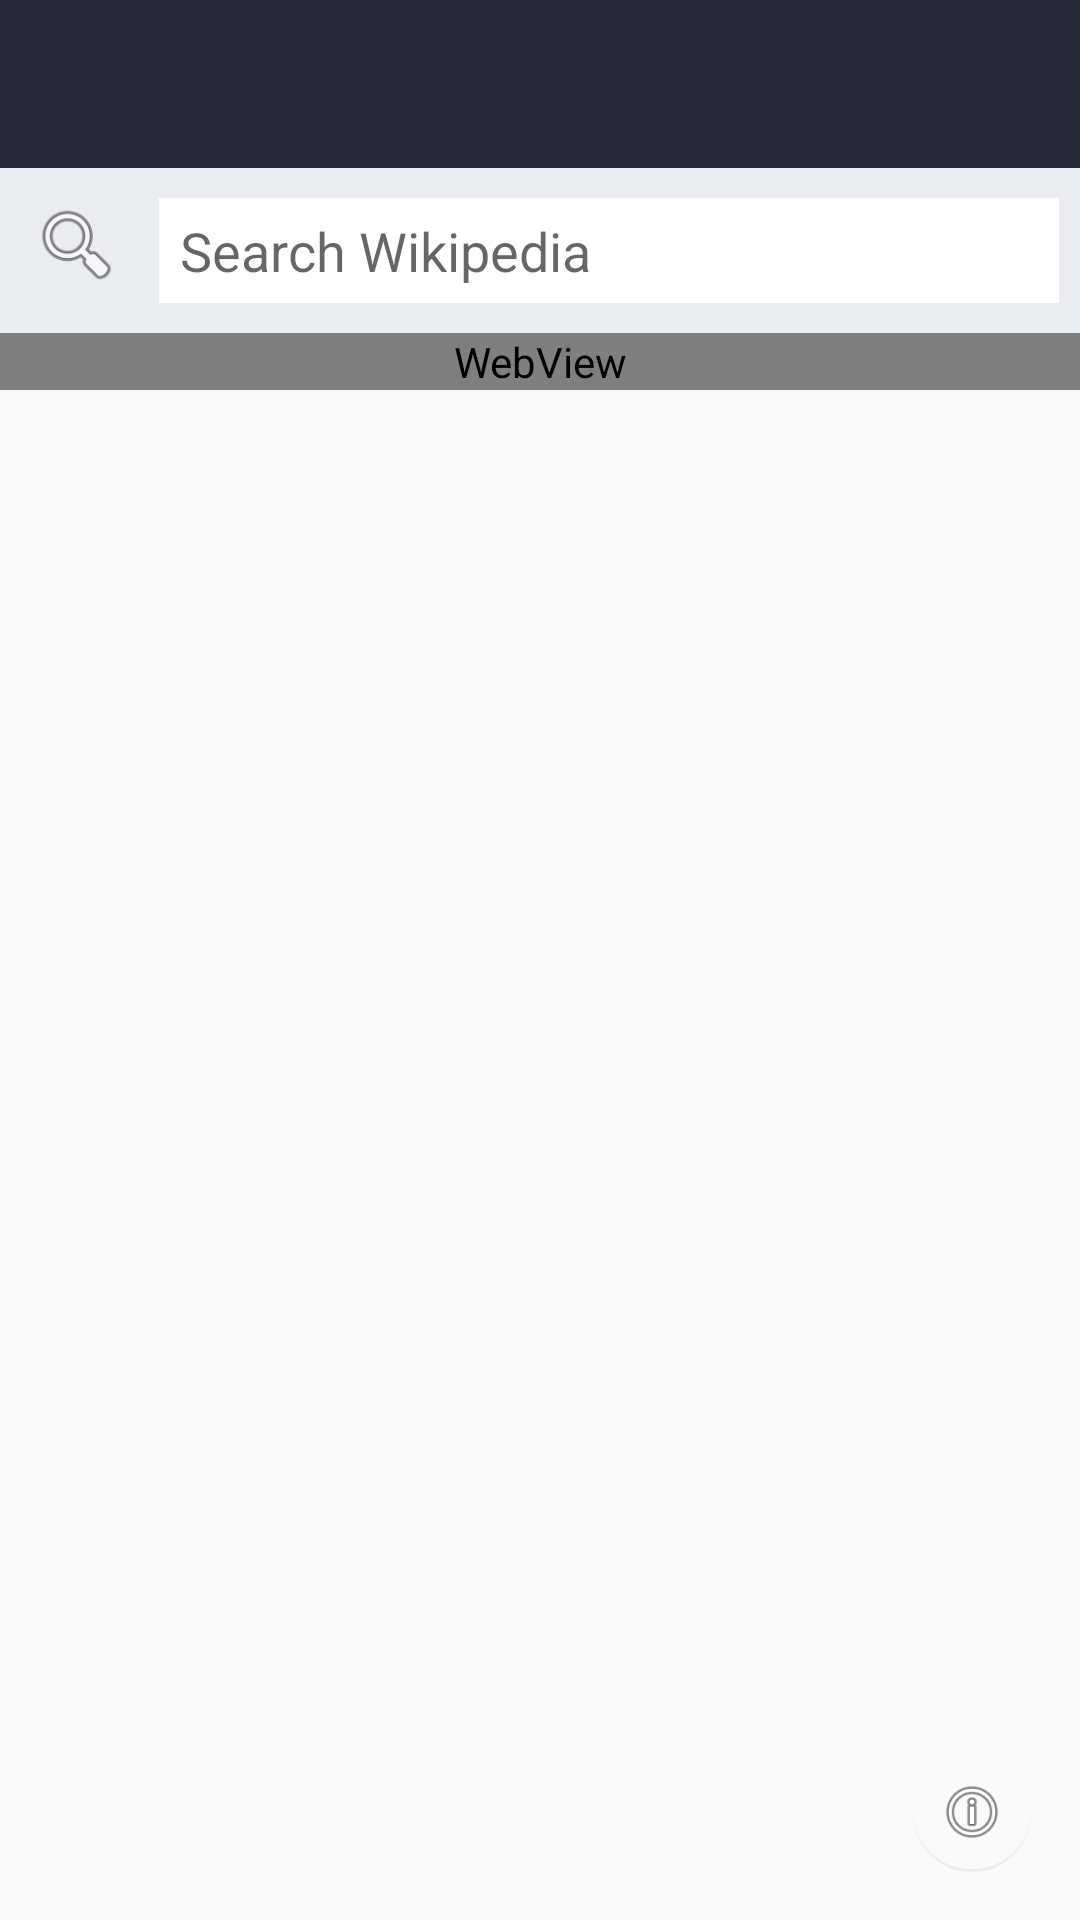

Named icons in this screenshot (1080 x 1920) and their bounding boxes, [x1=x1, y1=y1, x2=x2, y2=y2]:
info details: [x1=946, y1=1786, x2=998, y2=1838]
